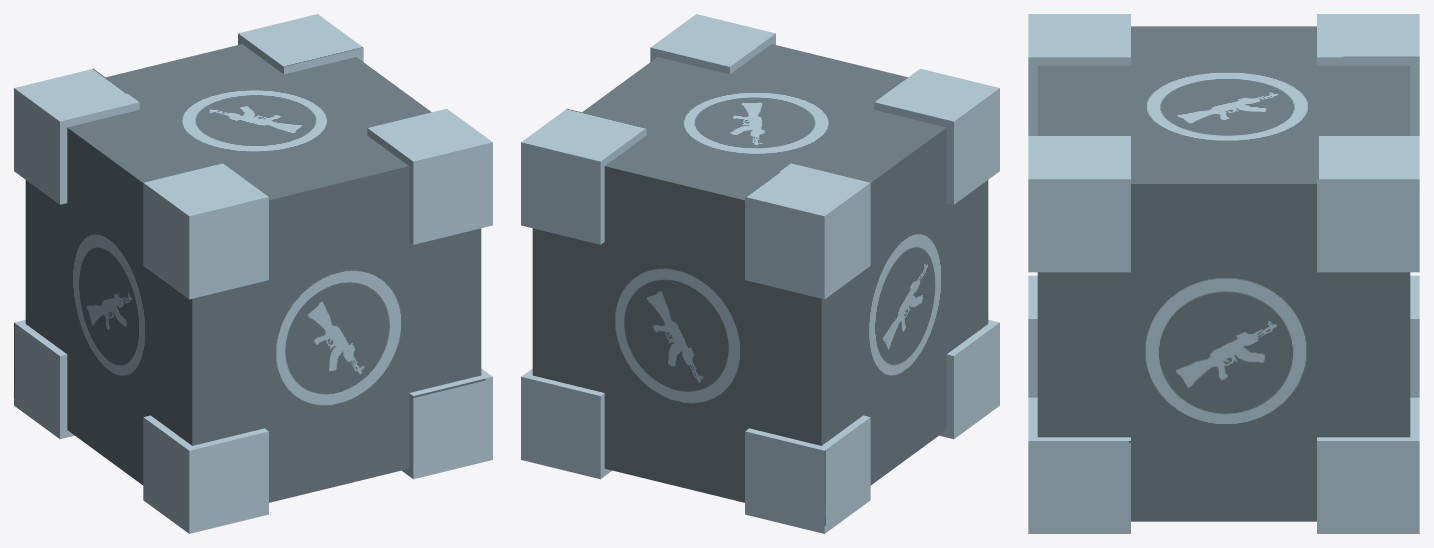
File: box_weapons.fbx
The picture shows the model from 3 angles, left to right: view 1: azimuth 30°, elevation 25°; view 2: azimuth 150°, elevation 25°; view 3: azimuth 270°, elevation 25°; orthographic projection. The views are drawn at different scales.
Parts seen in each view (by area): view 1: Cube; view 2: Cube; view 3: Cube.
Boxes of the visible parts, x1,y1,x2,y2 form: Cube: (14, 14, 492, 533); Cube: (521, 14, 999, 533); Cube: (1028, 14, 1419, 533).
Bounding box in the file's own units: 210 × 210 × 210.
